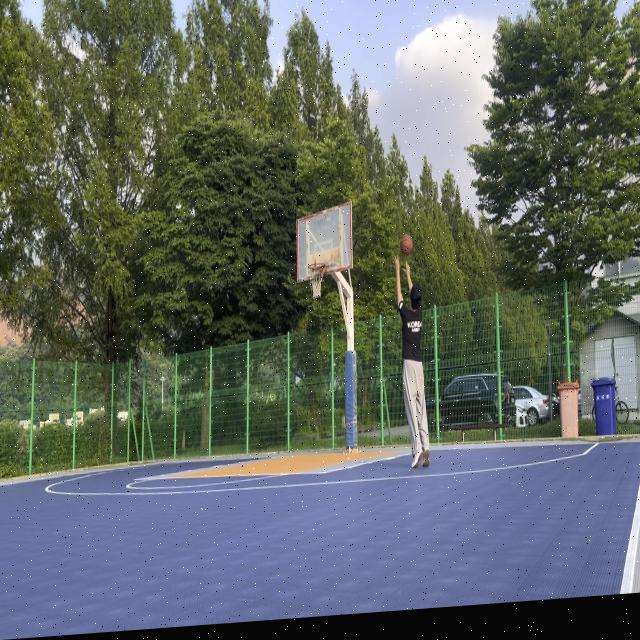basketball: (400, 233, 413, 257)
hoop: (307, 262, 326, 300)
